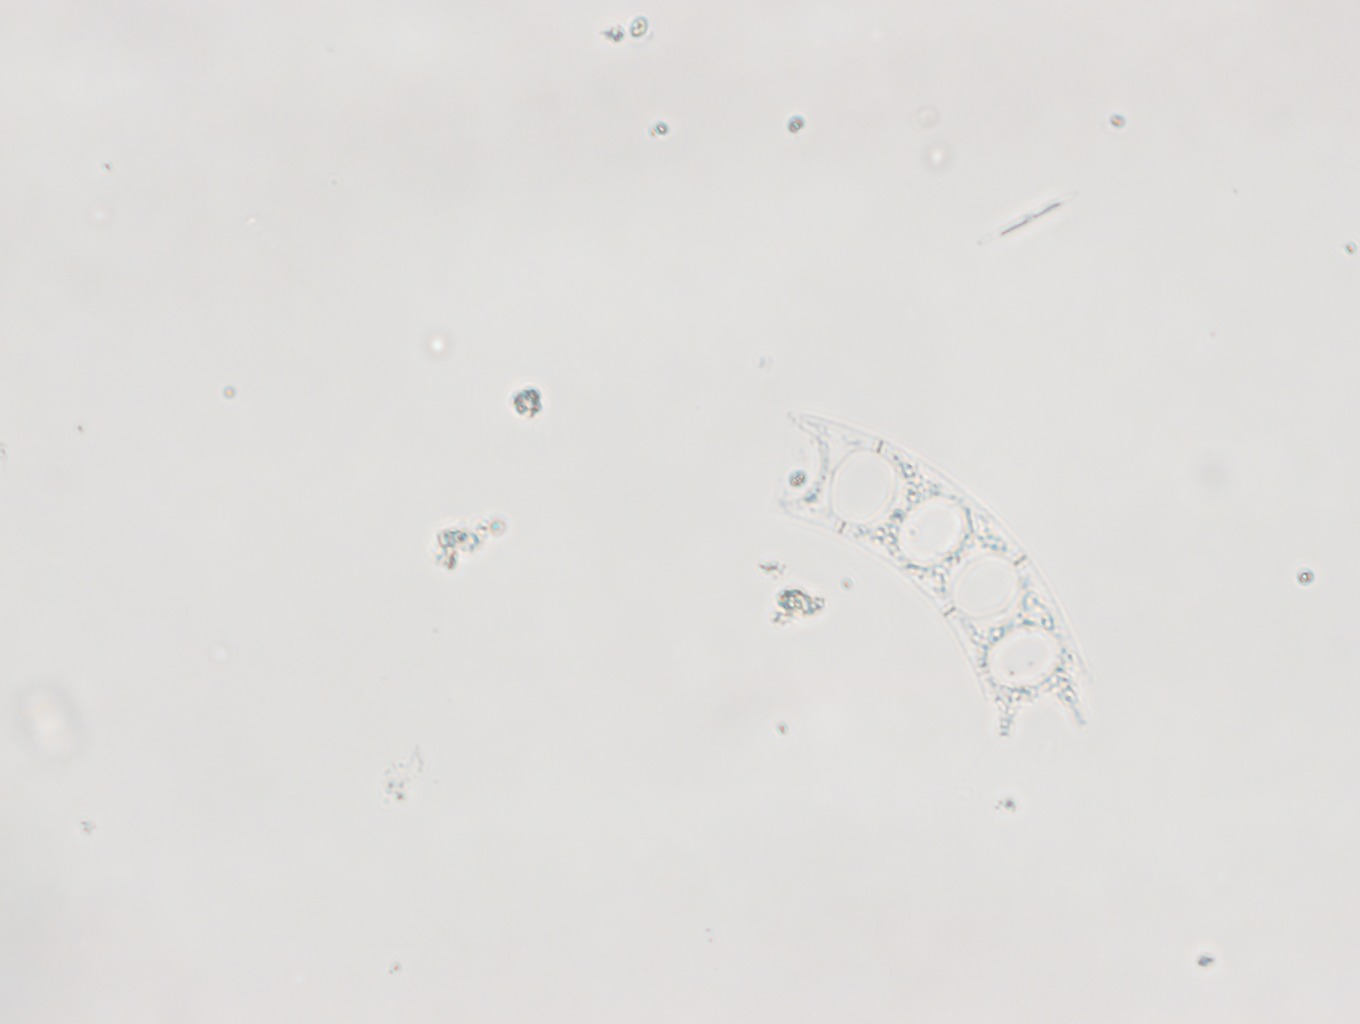eucampia: (777, 414, 1101, 740)
